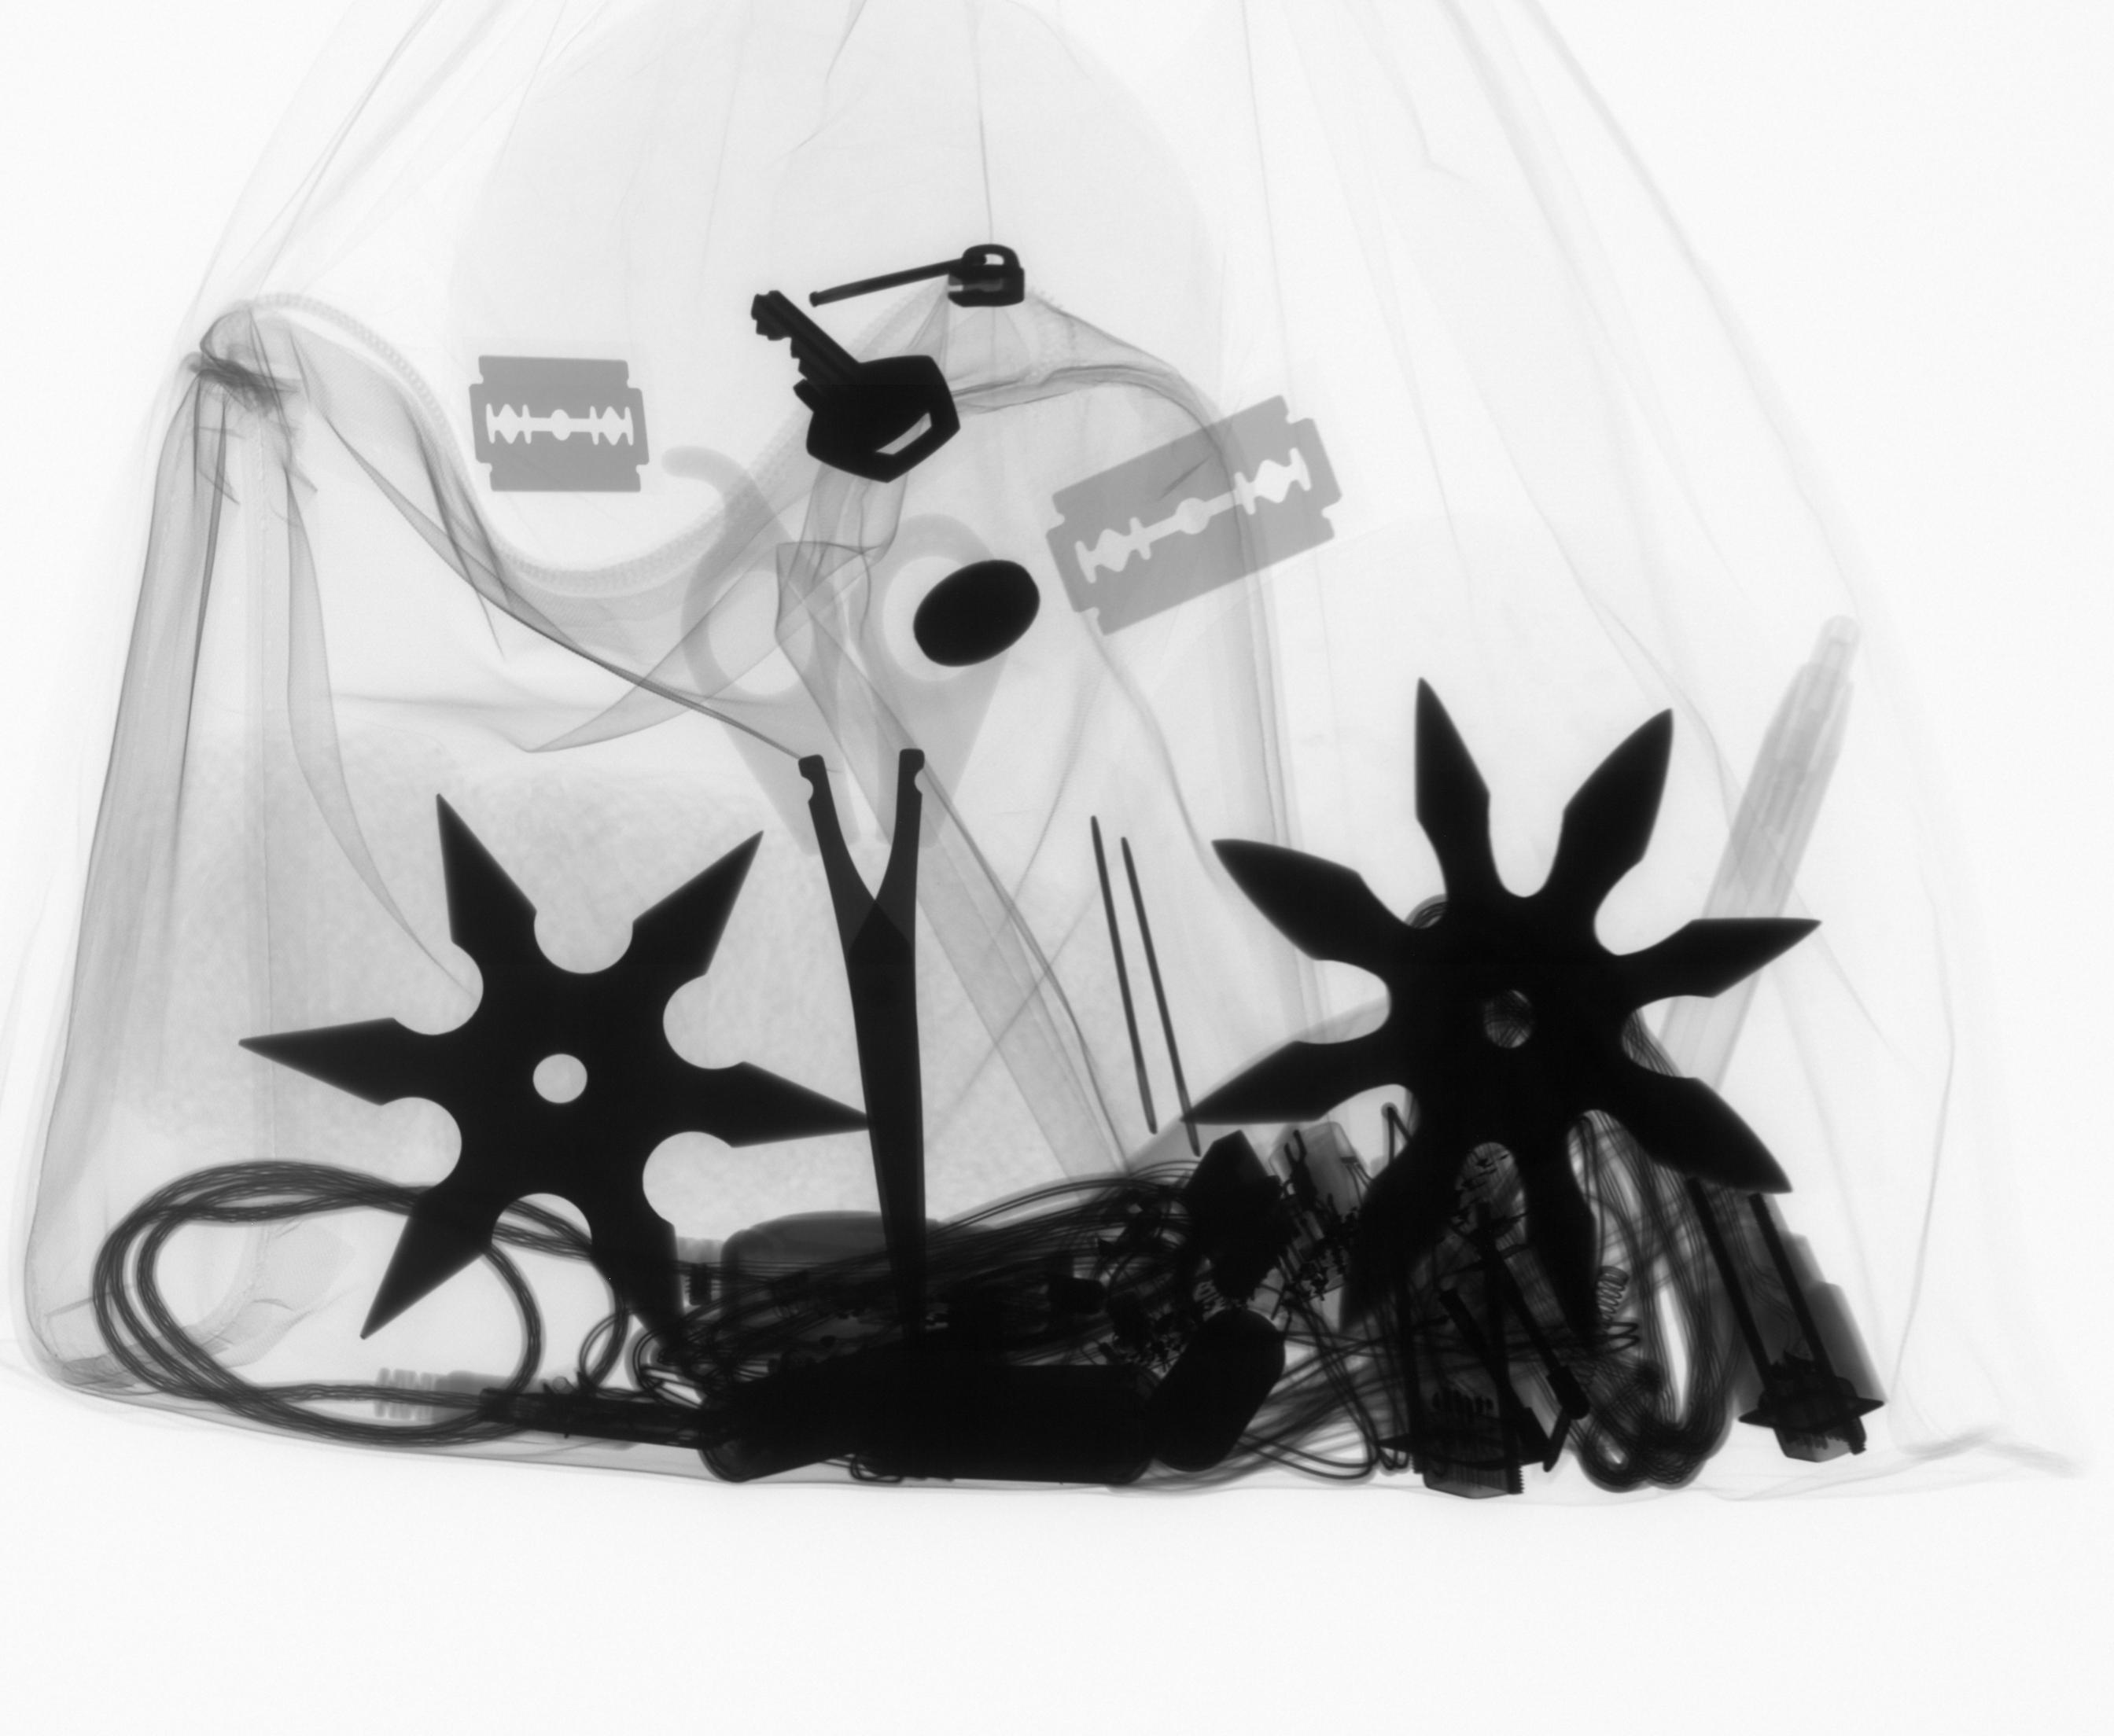RazorBlade: (1038, 393, 1348, 637), (455, 346, 672, 506)
Shuriken: (1168, 665, 1875, 1357), (239, 778, 839, 1366)
